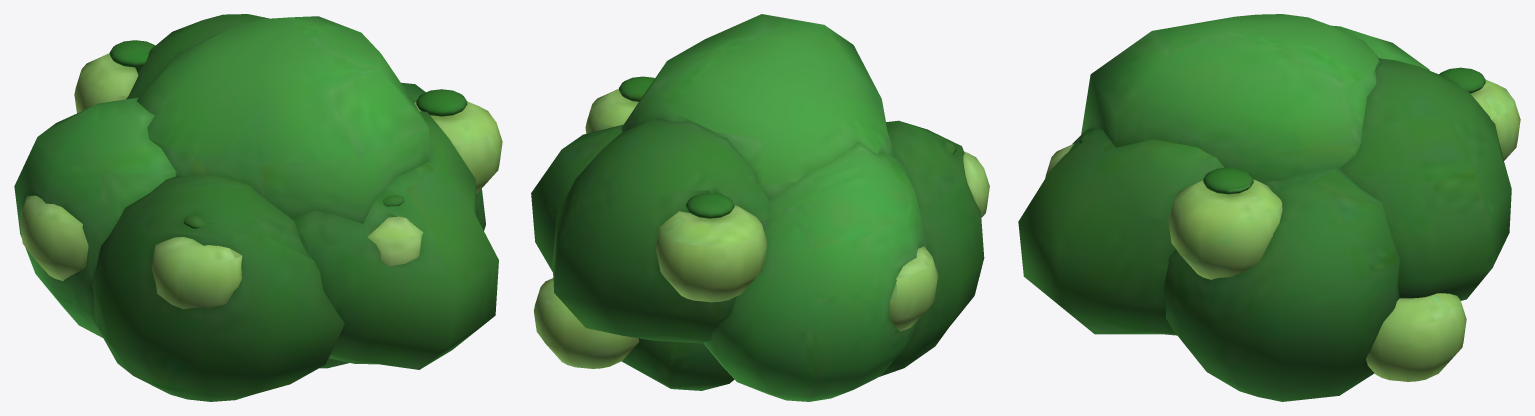
Rendered from crop_gooseberry.glb.
The picture shows the model from 3 angles, left to right: view 1: azimuth 30°, elevation 25°; view 2: azimuth 150°, elevation 25°; view 3: azimuth 270°, elevation 25°; orthographic projection. The views are drawn at different scales.
Parts seen in each view (by area): view 1: crop_gooseberry, fruit; view 2: crop_gooseberry, fruit; view 3: crop_gooseberry, fruit.
Boxes of the visible parts, <box> form: crop_gooseberry: <box>14,14,498,401</box>; fruit: <box>19,53,502,309</box>; crop_gooseberry: <box>531,14,984,401</box>; fruit: <box>534,88,989,368</box>; crop_gooseberry: <box>1018,14,1511,401</box>; fruit: <box>1045,80,1520,381</box>.
Size of the model in its own units: 0.2659 by 0.2091 by 0.275.
1 material, 1 textured.
